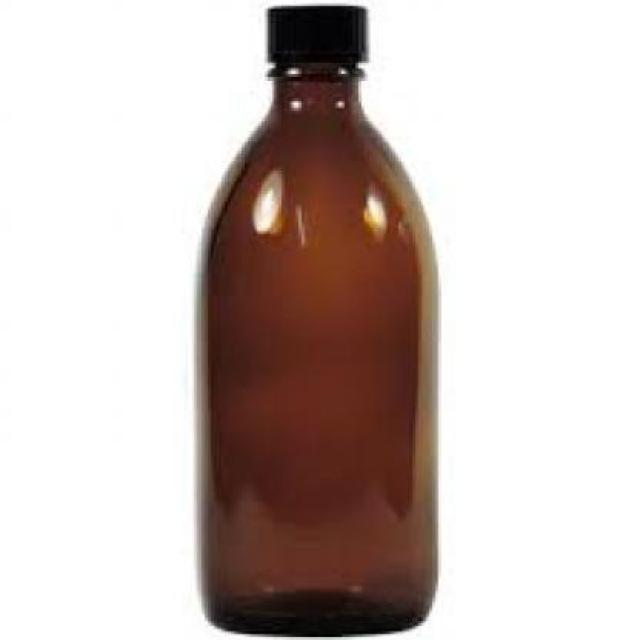GLASS: (191, 56, 438, 632)
PLASTIC: (265, 5, 364, 58)
